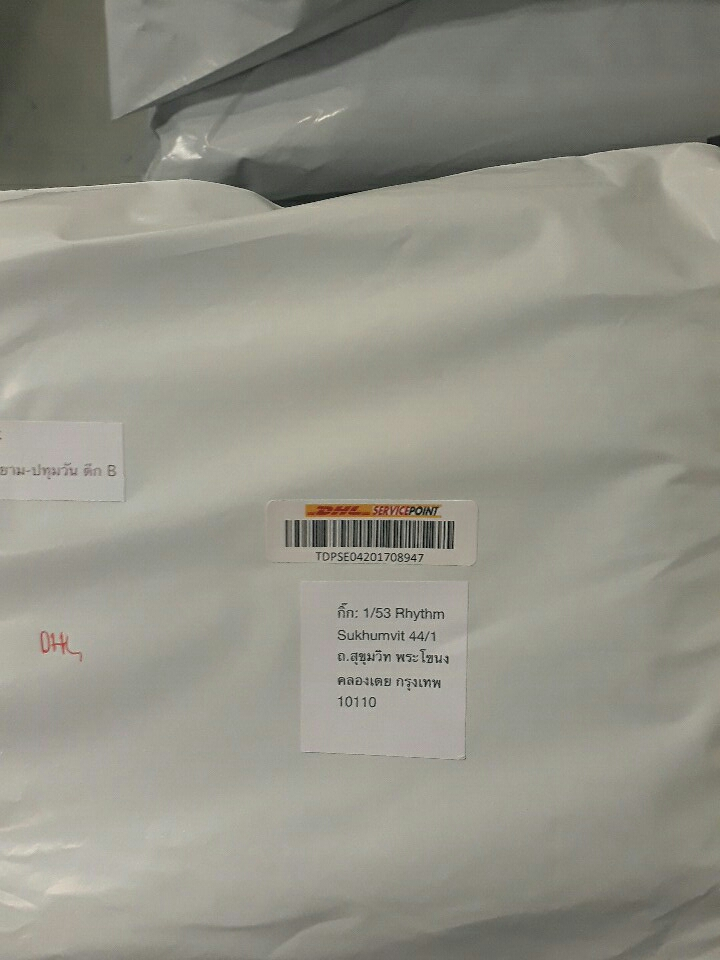ba: (250, 495, 495, 575)
txt: (324, 595, 456, 727)
